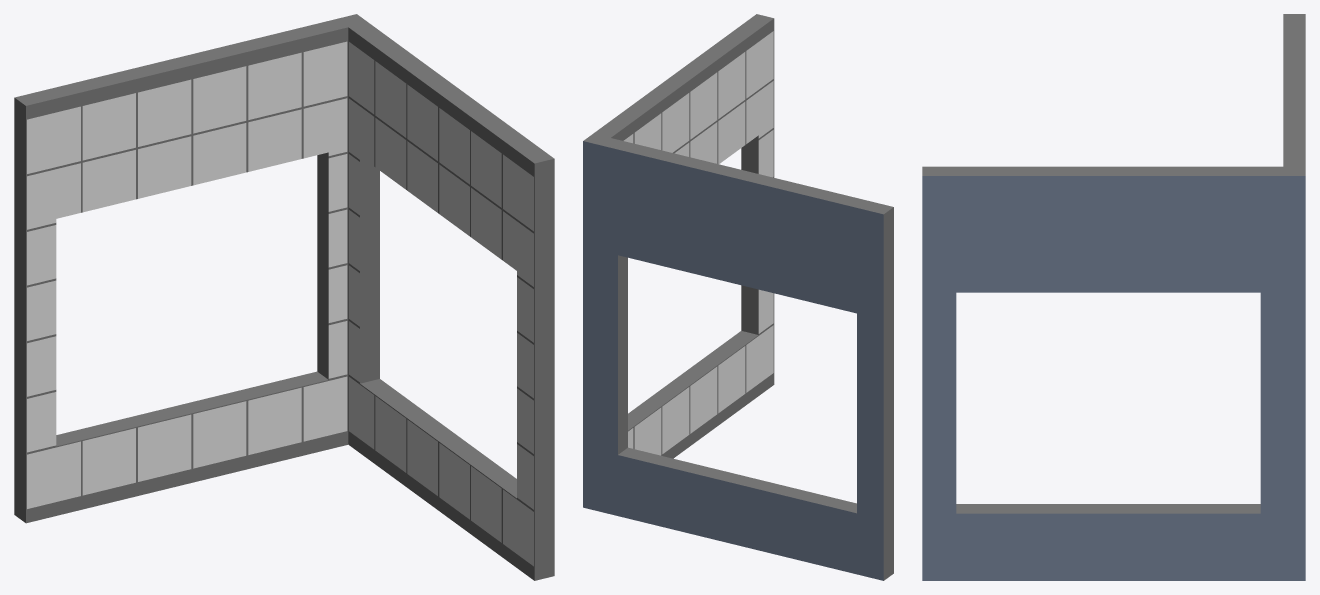
Rendered from Wall3_C7_15.fbx.
3 views of the same model, side by side, from view 1: azimuth 30°, elevation 25°; view 2: azimuth 150°, elevation 25°; view 3: azimuth 270°, elevation 25° (orthographic). The views are drawn at different scales.
Parts seen in each view (by area): view 1: Wall3_C7_15; view 2: Wall3_C7_15; view 3: Wall3_C7_15.
Part boxes in pixels (box(x1,y1,x2,y2)): Wall3_C7_15: box(14, 14, 554, 580); Wall3_C7_15: box(583, 14, 893, 580); Wall3_C7_15: box(922, 14, 1305, 580).
Size of the model in its own units: 258 by 300 by 258.
